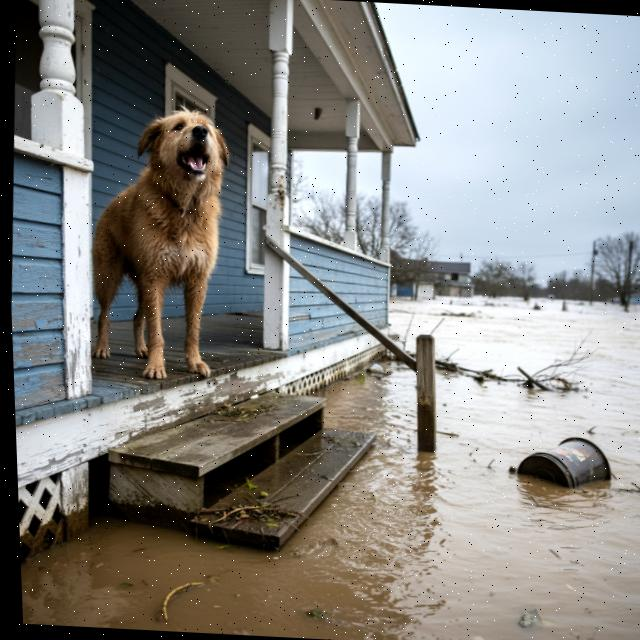dog: (79, 92, 250, 400)
